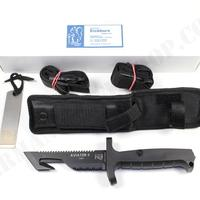knife: (22, 137, 200, 184)
